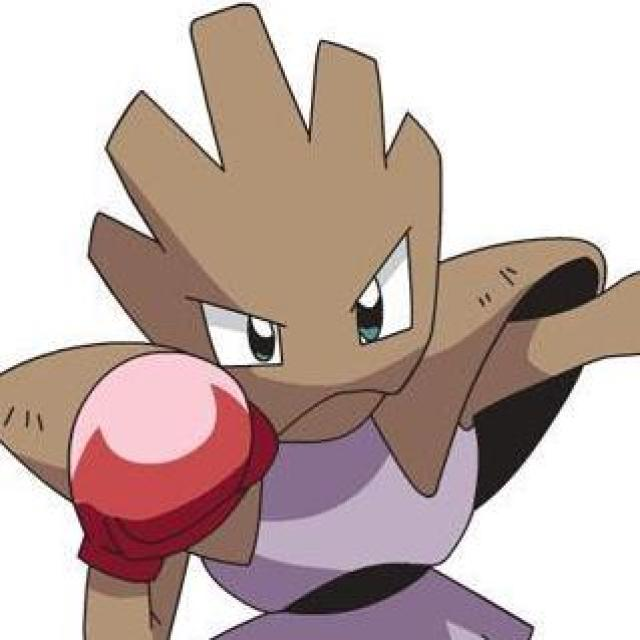Hitmonchan: (18, 10, 608, 640)
